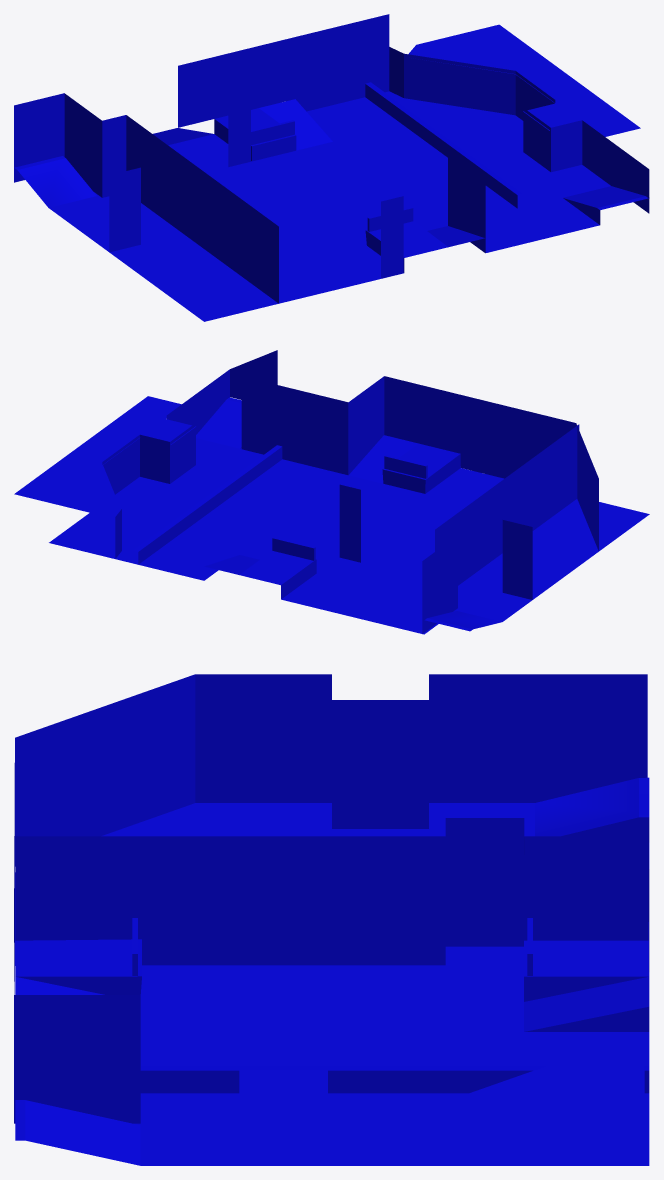
The model's file is gltf__Models__map__Tutorial__modeB__modeB_Collision.glb.
3 renders of one model, top to bottom at view 1: azimuth 30°, elevation 25°; view 2: azimuth 150°, elevation 25°; view 3: azimuth 270°, elevation 25°, orthographic. The views are drawn at different scales.
Visible parts, largest first — view 1: modeB_Collision; view 2: modeB_Collision; view 3: modeB_Collision.
Part boxes in pixels (x1,y1,x2,y2): modeB_Collision: (14,14,649,321); modeB_Collision: (14,350,649,634); modeB_Collision: (14,674,649,1165).
Bounding box in the file's own units: 50.14 × 7.65 × 34.22.
